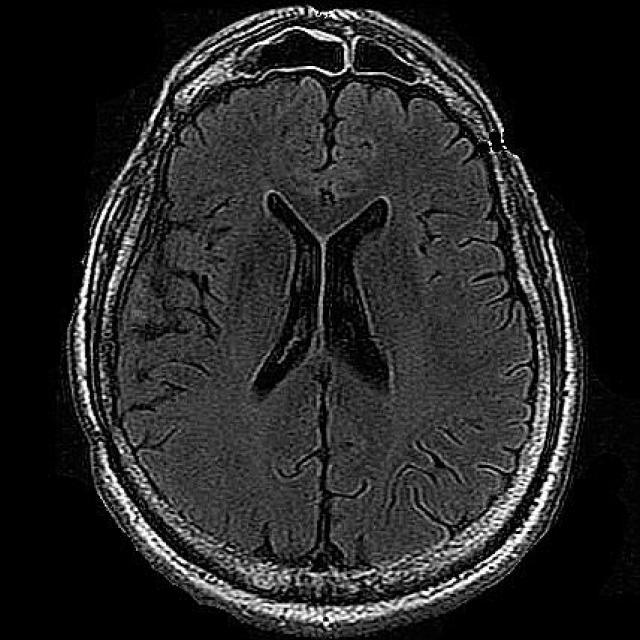notumor: (66, 9, 583, 634)
